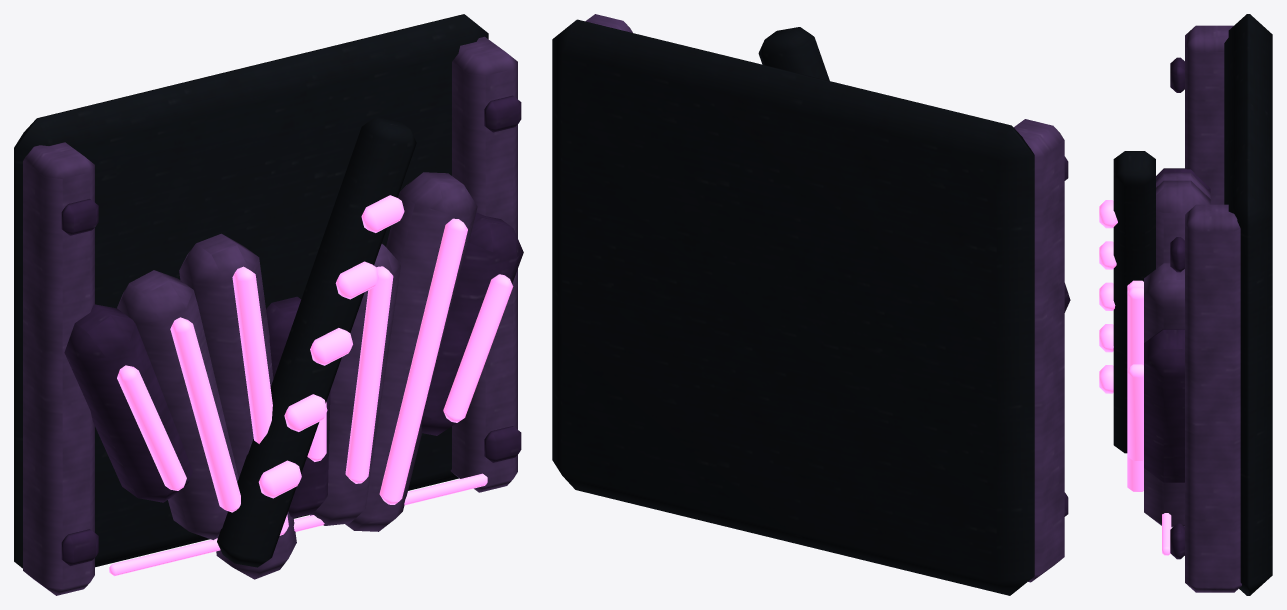
The model's file is riftcore_nexus_fixture.glb.
The picture shows the model from 3 angles, left to right: view 1: azimuth 30°, elevation 25°; view 2: azimuth 150°, elevation 25°; view 3: azimuth 270°, elevation 25°; orthographic projection. The views are drawn at different scales.
Parts seen in each view (by area): view 1: riftcore_nexus_fixture - Recessed iron, riftcore_nexus_fixture - riftcore_nexus trim, riftcore_nexus_fixture - riftcore_nexus accents, riftcore_nexus_fixture - riftcore_nexus panels; view 2: riftcore_nexus_fixture - Recessed iron, riftcore_nexus_fixture - riftcore_nexus trim; view 3: riftcore_nexus_fixture - riftcore_nexus trim, riftcore_nexus_fixture - Recessed iron, riftcore_nexus_fixture - riftcore_nexus panels, riftcore_nexus_fixture - riftcore_nexus accents.
Part boxes in pixels (left/top/right/bottom): riftcore_nexus_fixture - Recessed iron: left=14, top=14, right=488, bottom=568; riftcore_nexus_fixture - riftcore_nexus trim: left=23, top=36, right=517, bottom=595; riftcore_nexus_fixture - riftcore_nexus accents: left=109, top=195, right=513, bottom=576; riftcore_nexus_fixture - riftcore_nexus panels: left=61, top=95, right=523, bottom=565; riftcore_nexus_fixture - Recessed iron: left=552, top=19, right=1034, bottom=595; riftcore_nexus_fixture - riftcore_nexus trim: left=585, top=14, right=1064, bottom=582; riftcore_nexus_fixture - riftcore_nexus trim: left=1144, top=25, right=1241, bottom=592; riftcore_nexus_fixture - Recessed iron: left=1113, top=14, right=1272, bottom=595; riftcore_nexus_fixture - riftcore_nexus panels: left=1144, top=57, right=1210, bottom=559; riftcore_nexus_fixture - riftcore_nexus accents: left=1099, top=200, right=1171, bottom=555.
Bounding box in the file's own units: 3.13 × 2.95 × 1.14.
4 materials, 3 textured.
